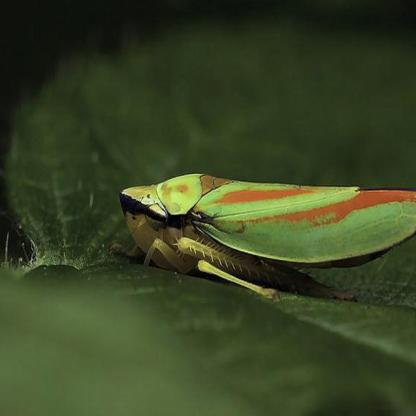green-leafhopper: (116, 162, 416, 299)
